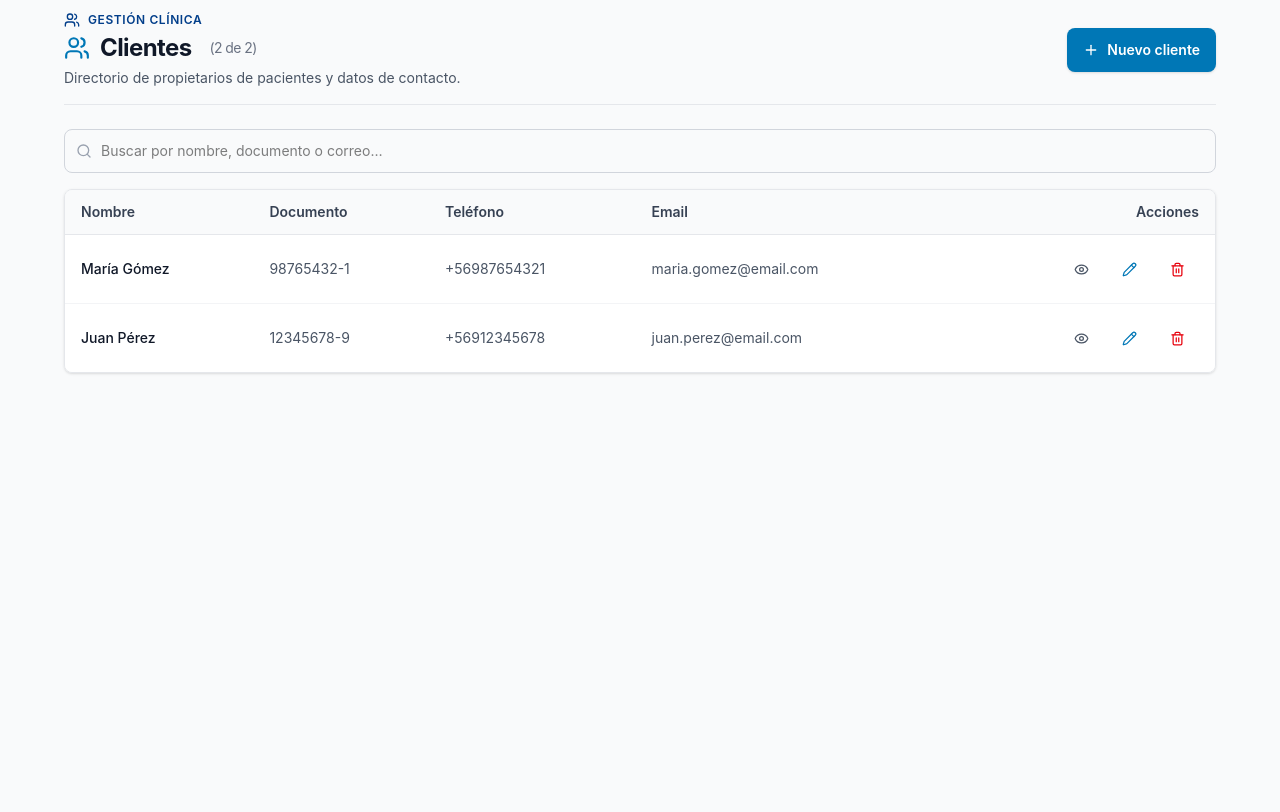
Test: Clientes CRUD › activa la validación en cliente con Zod cuando se intenta enviar campos obligatorios vacíos
Note: Abrir formulario de creación
Click the button "Nuevo cliente" at (1142, 50), box [1067,28,1216,72]
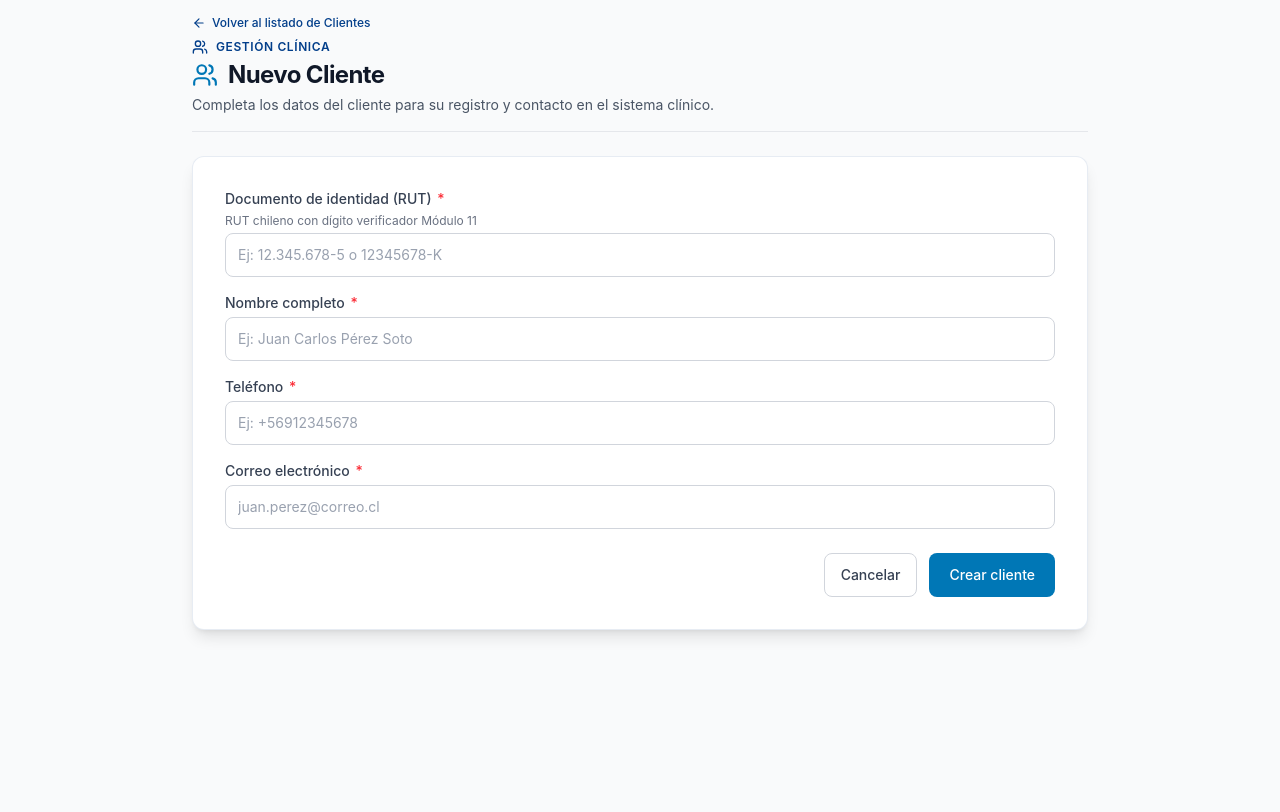
Note: Intentar enviar sin rellenar datos
Click the button "Crear cliente" at (992, 575), box [930,553,1055,597]
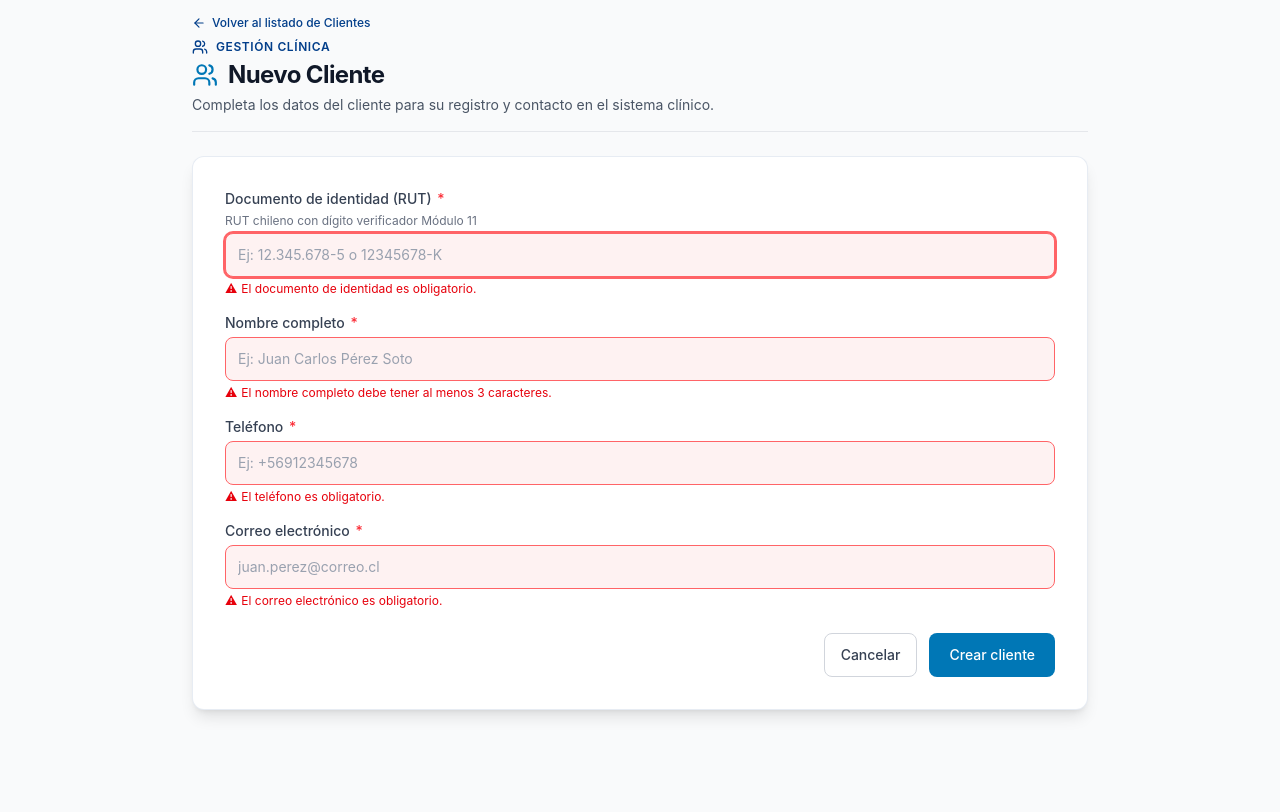
Result: the text "⚠ El documento de identidad es obligatorio." is shown at [225,281,476,296]
Result: the text "⚠ El nombre completo debe tener al menos 3 caracteres." is shown at [225,385,552,400]
Result: the text "⚠ El teléfono es obligatorio." is shown at [225,489,385,504]
